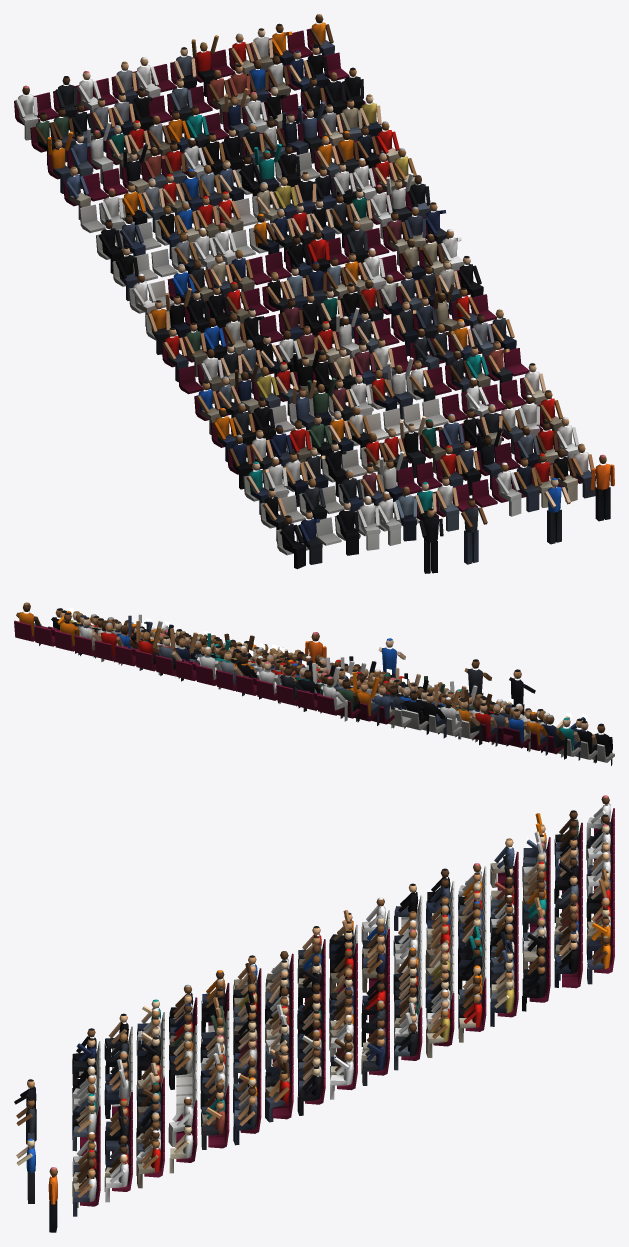
File: stand_T2_kit_1.glb
The picture shows the model from 3 angles, top to bottom: view 1: azimuth 30°, elevation 25°; view 2: azimuth 150°, elevation 25°; view 3: azimuth 270°, elevation 25°; orthographic projection. The views are drawn at different scales.
Visible parts, largest first — view 1: kit_1; view 2: kit_1; view 3: kit_1.
Part boxes in pixels (x1=…): kit_1: x1=14, y1=14, x2=614, y2=573; kit_1: x1=14, y1=602, x2=614, y2=765; kit_1: x1=14, y1=795, x2=614, y2=1232.
Size of the model in its own units: 9.02 by 8.21 by 14.96.
